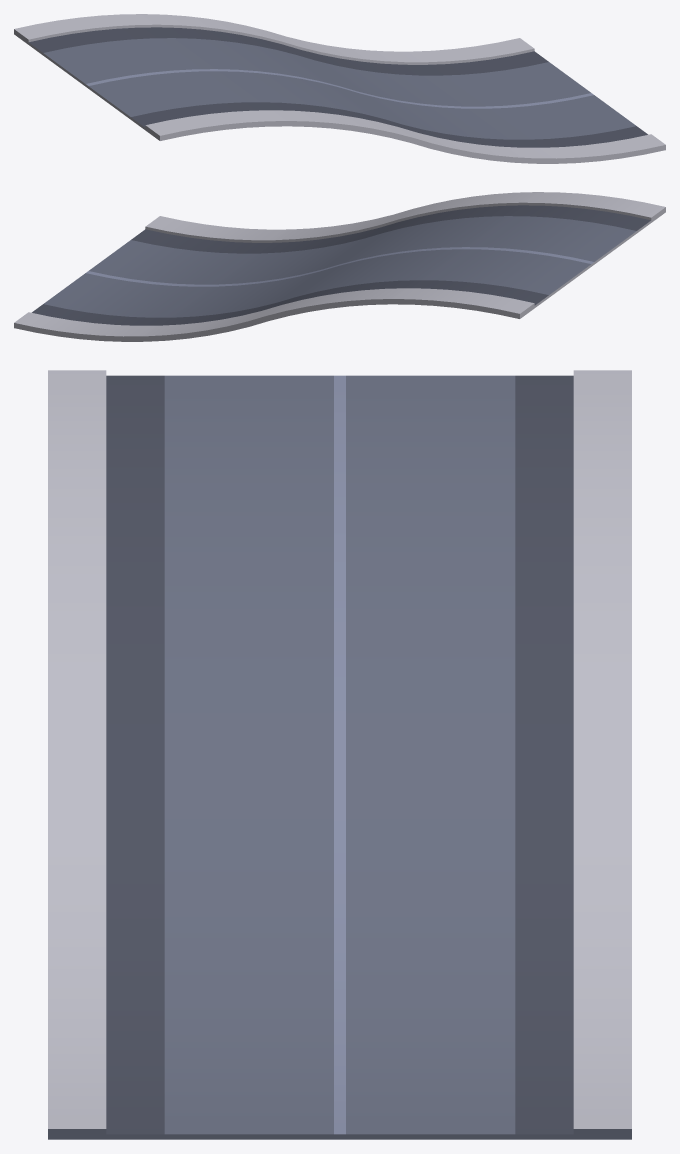
The model's file is Road Slant Flat Curve.glb.
3 views of the same model, one above another, from view 1: azimuth 30°, elevation 25°; view 2: azimuth 150°, elevation 25°; view 3: azimuth 270°, elevation 25° (orthographic). The views are drawn at different scales.
Visible parts, largest first — view 1: road_slantFlatCurve; view 2: road_slantFlatCurve; view 3: road_slantFlatCurve.
Part boxes in pixels (bbox=[...]): road_slantFlatCurve: bbox=[14, 14, 665, 163]; road_slantFlatCurve: bbox=[14, 192, 665, 341]; road_slantFlatCurve: bbox=[48, 370, 631, 1139].
Size of the model in its own units: 2 by 0.52 by 1.
